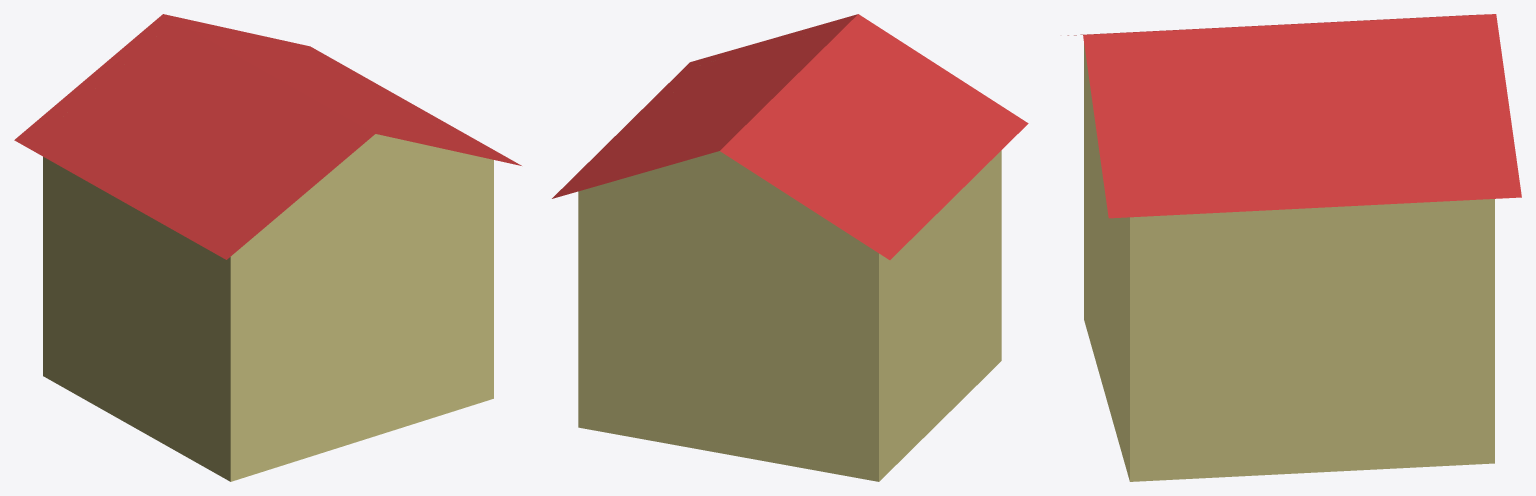
The picture shows the model from 3 angles, left to right: view 1: azimuth 30°, elevation 25°; view 2: azimuth 150°, elevation 25°; view 3: azimuth 270°, elevation 25°; orthographic projection. The views are drawn at different scales.
Size of the model in its own units: 14.84 by 14.34 by 12.52.
